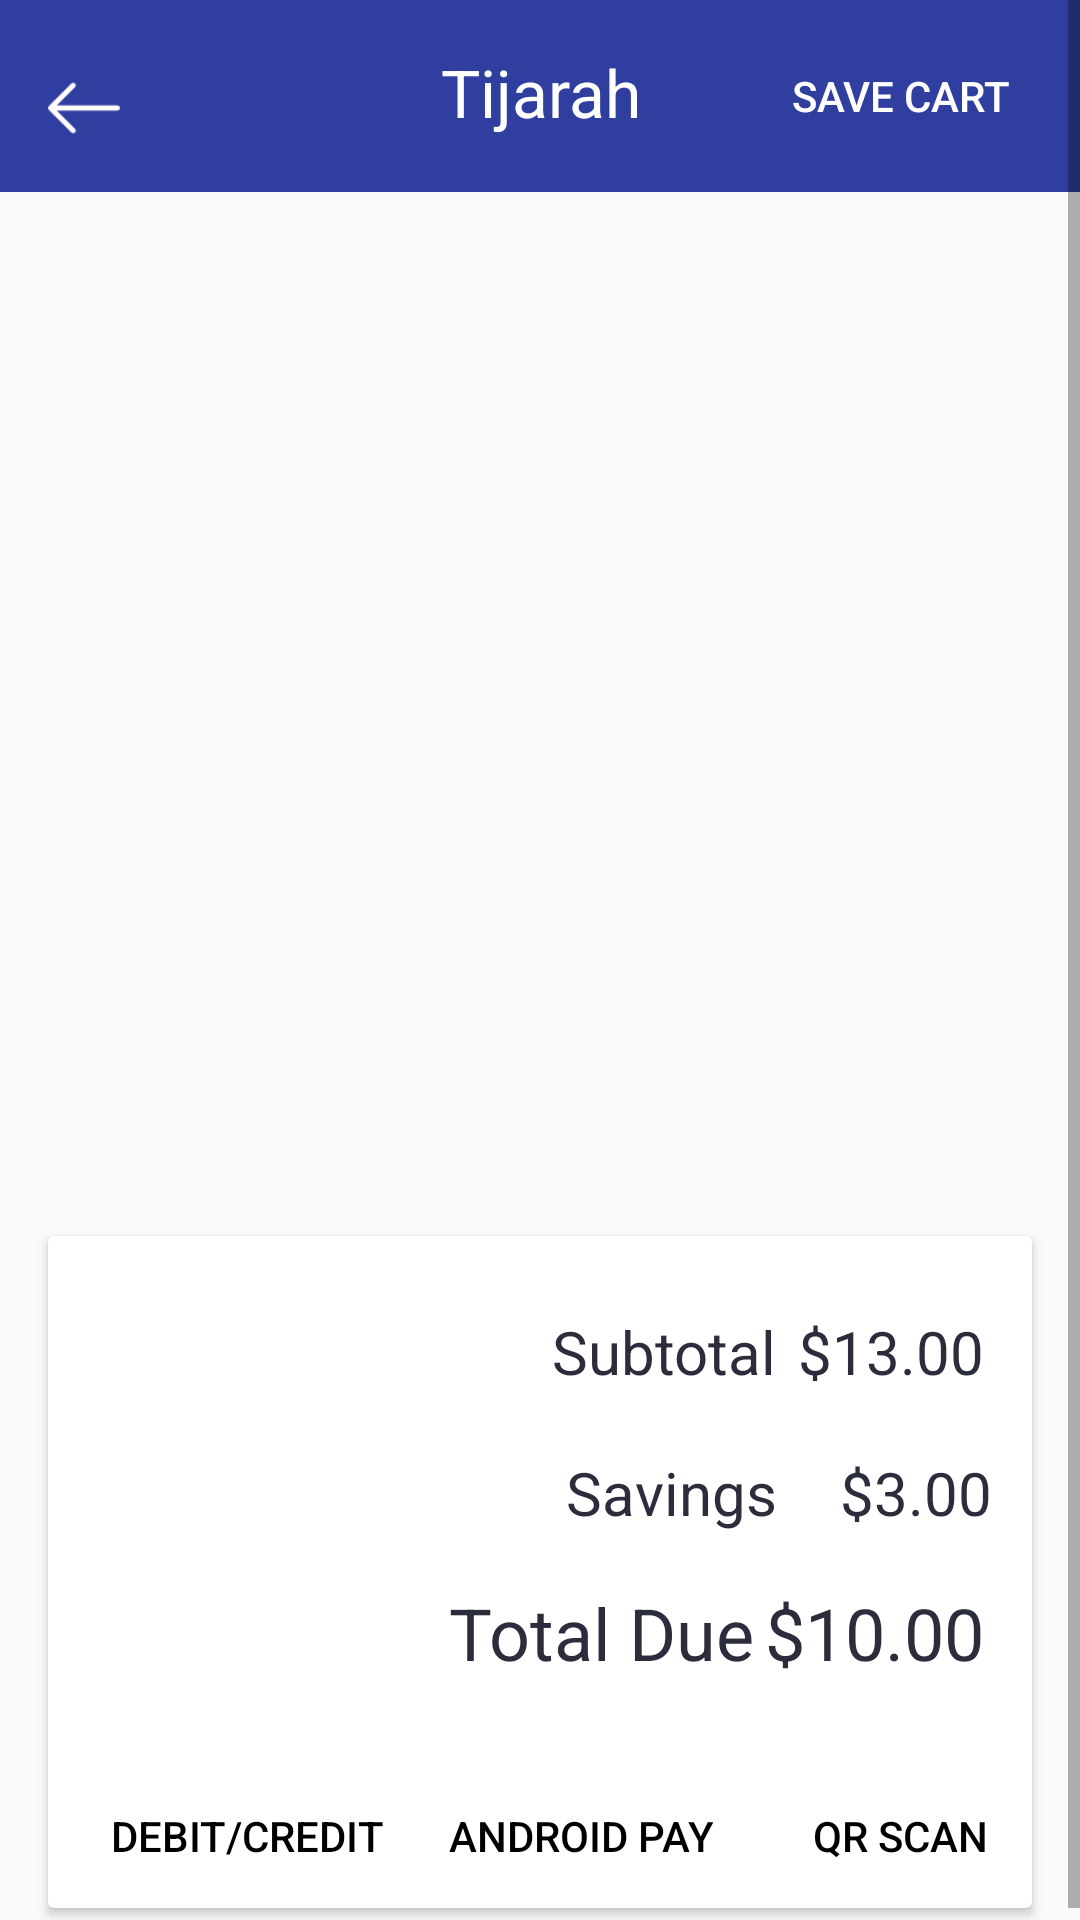

Screen size 1080w x 1920h. Icon name, then its box in pixels as bbox=(x1, y1, x2, y2):
back: bbox=(48, 82, 120, 134)
